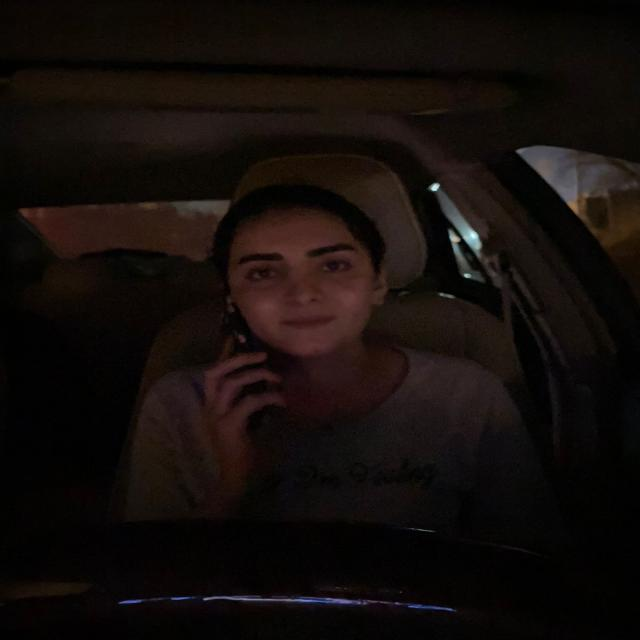person: (228, 190, 389, 358)
